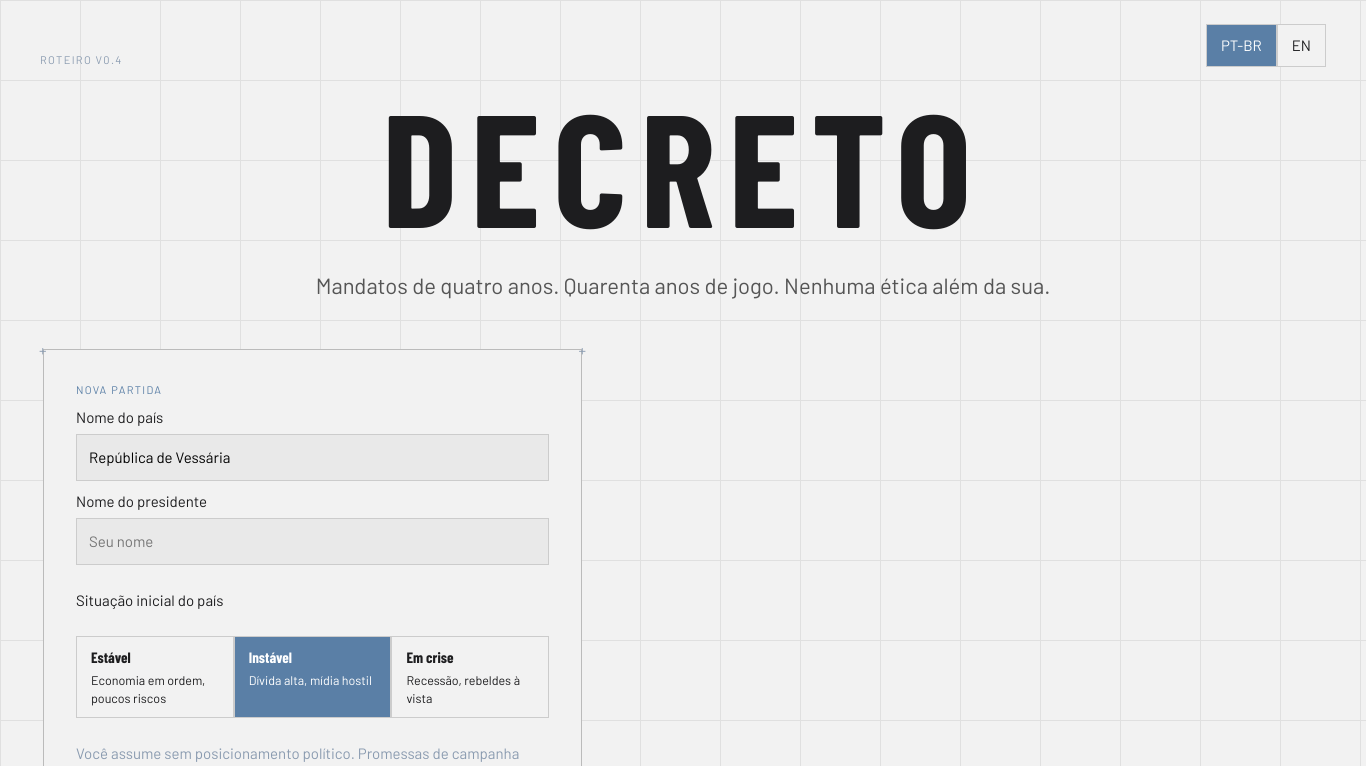
App with API › lets the player change language and country before creating a game
The width and height of the screenshot is (1366, 766).
Click the button "EN": click(1301, 46) [1277,24,1326,67]
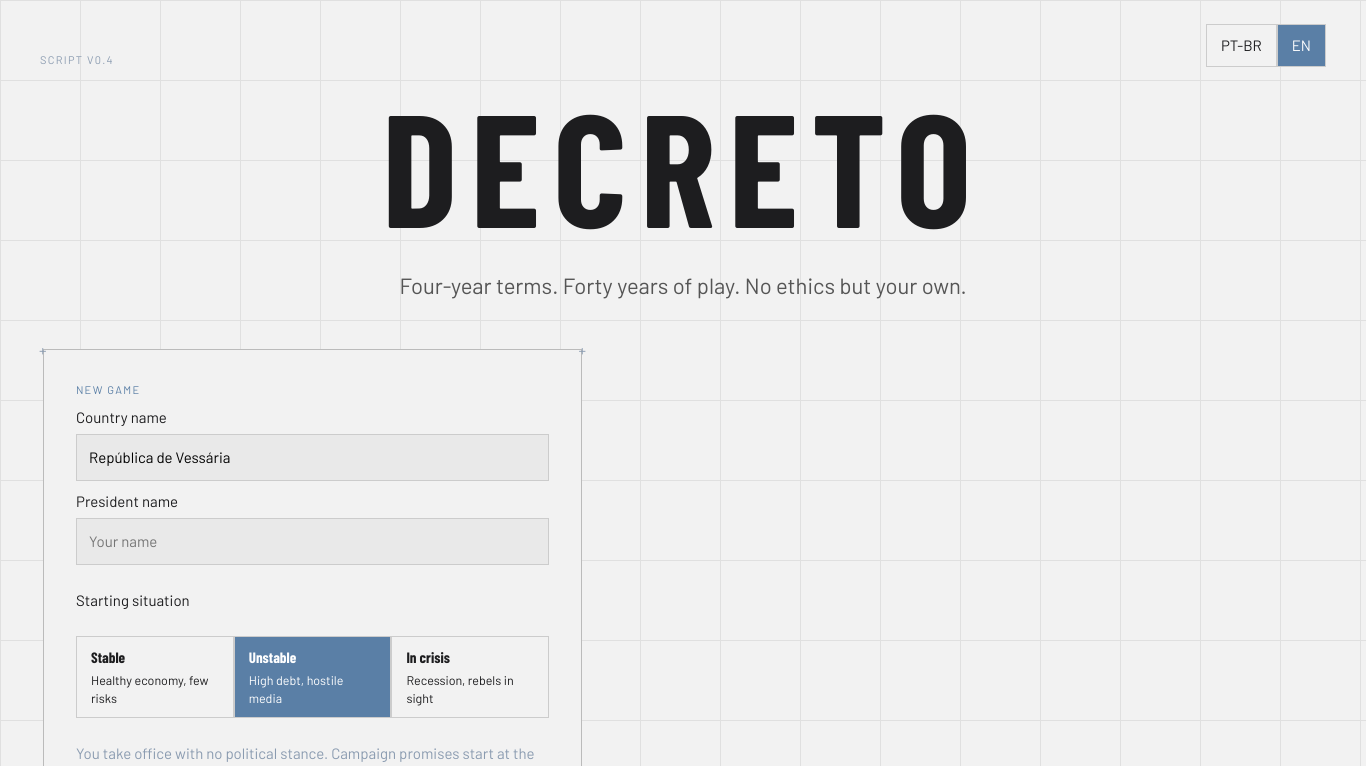
Replace the text in the field showing "República de Vessária" with "Newland": (313, 458) [76,434,549,481]
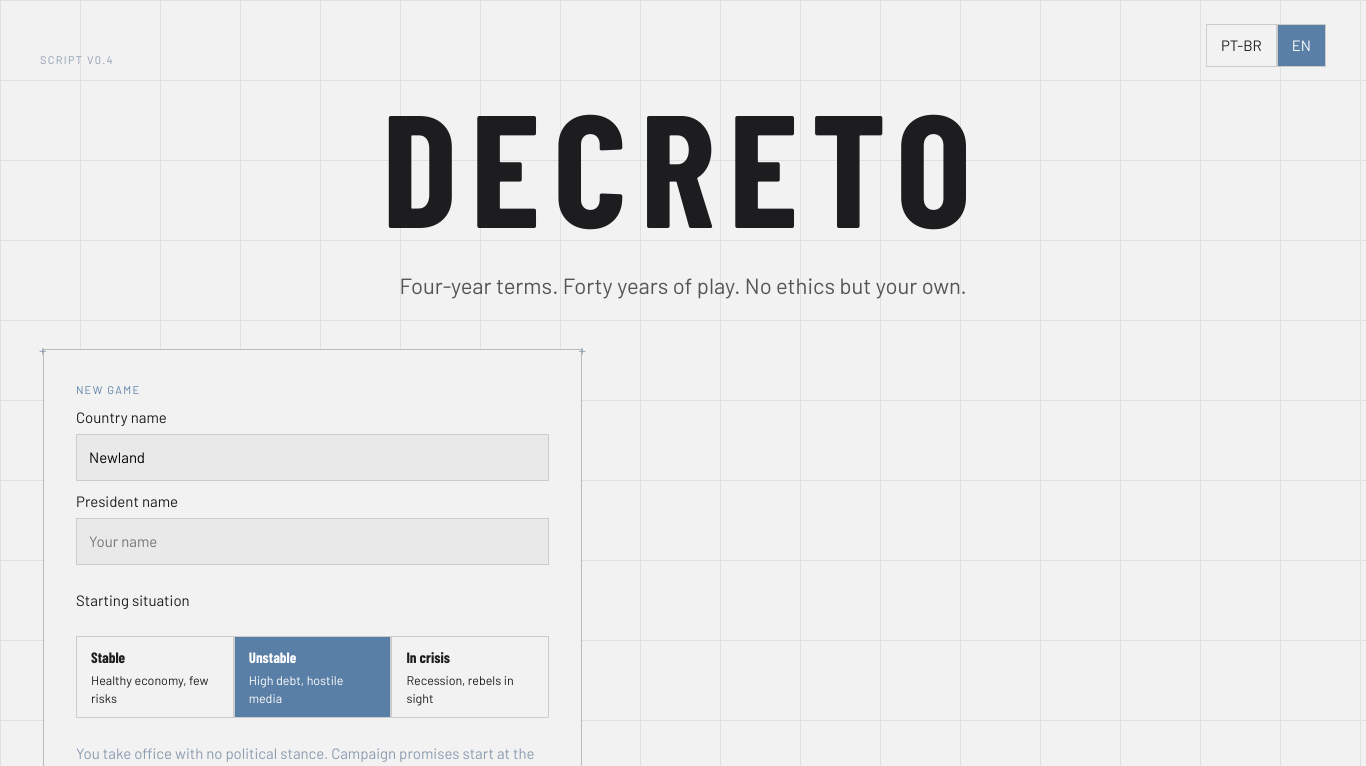
In the field with placeholder "Your name": (313, 542) [76,518,549,565], type "Alex"
(page scrolled)
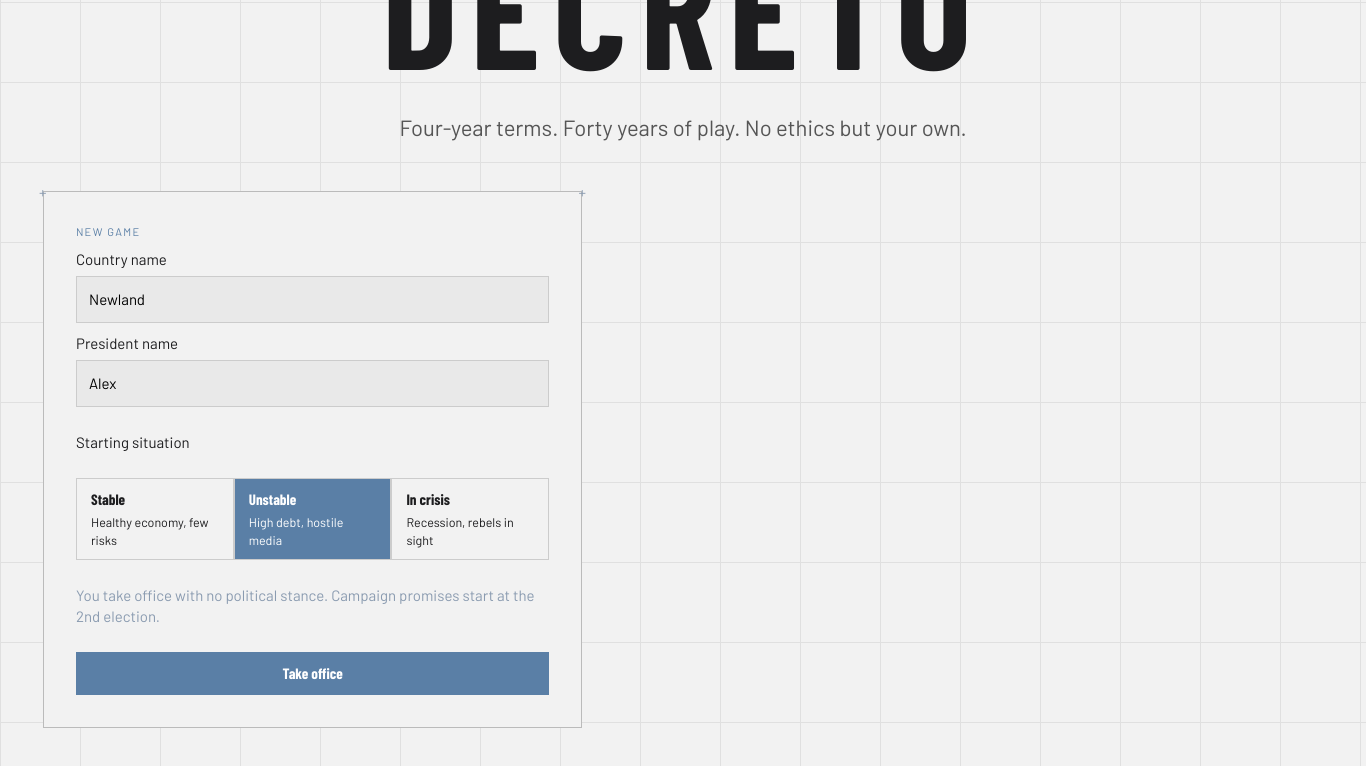
Click the button "Take office": click(313, 674) [76,652,549,695]
(page scrolled)
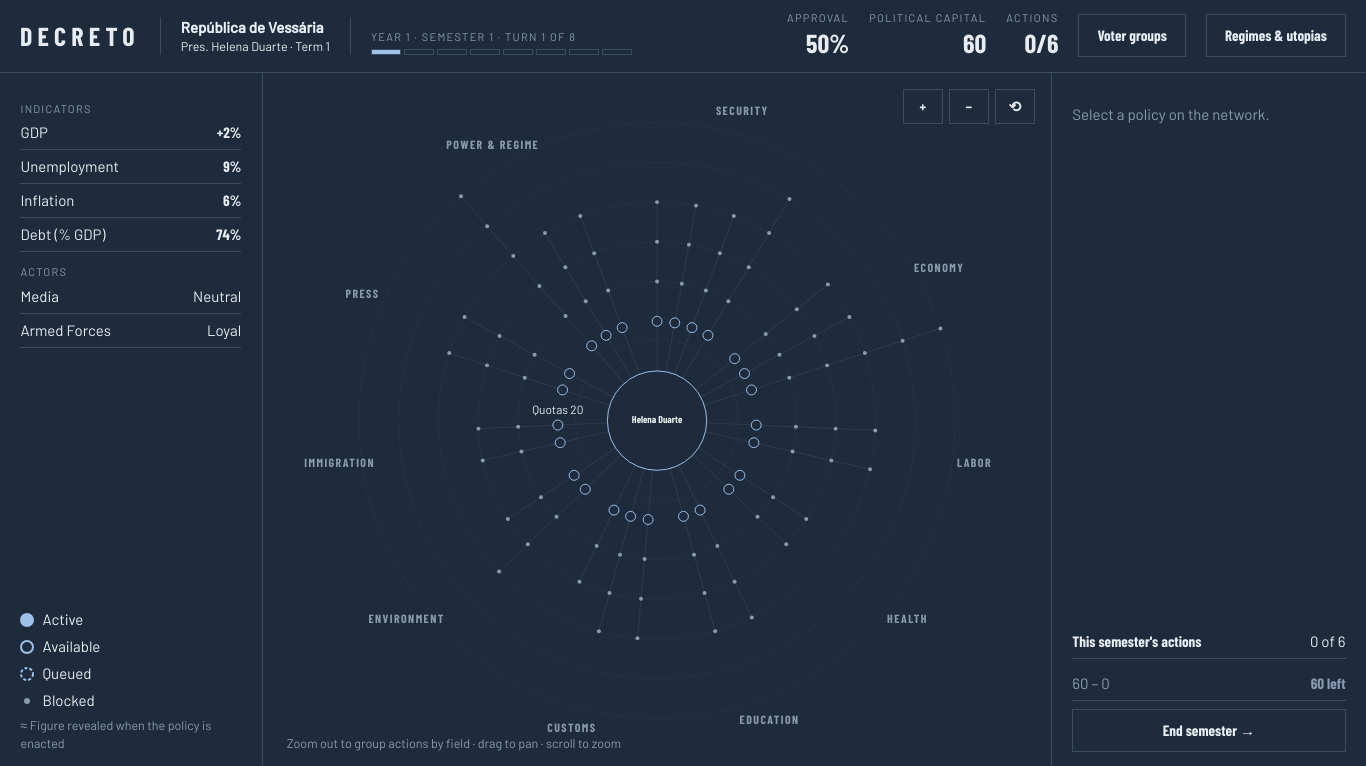
Expected: the text "This semester's actions" is shown, [1072,631,1202,652]
